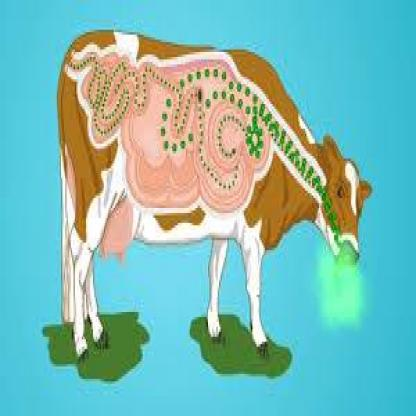cow: (56, 27, 371, 364)
